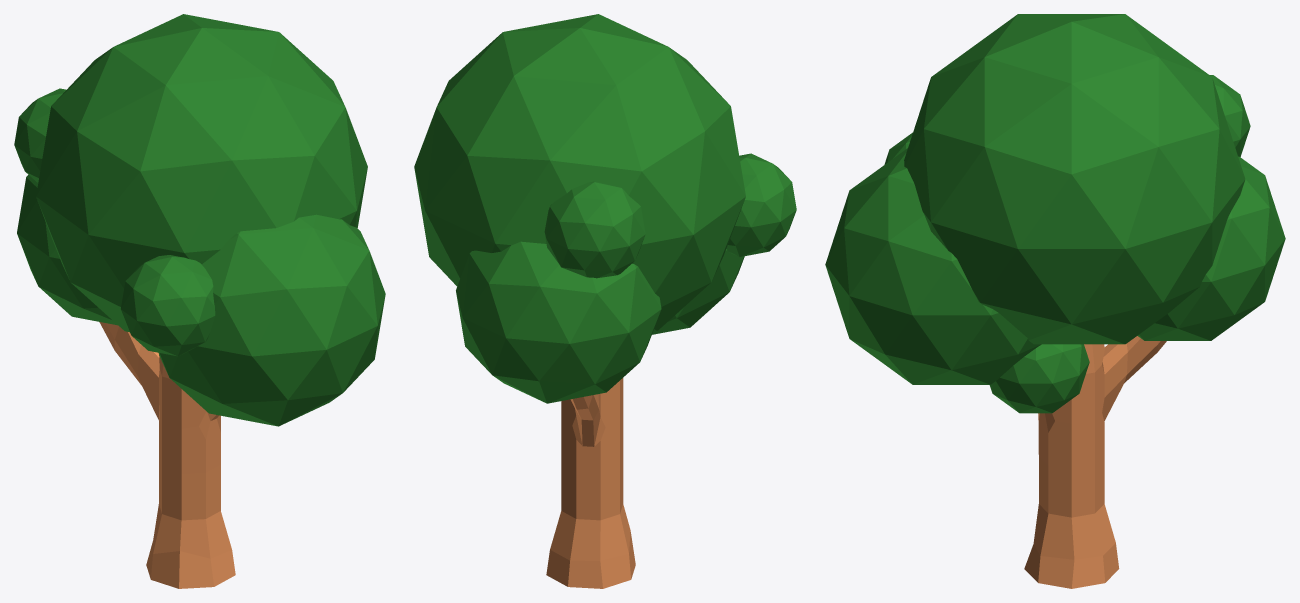
File: TREES_2.fbx
3 views of the same model, side by side, from view 1: azimuth 30°, elevation 25°; view 2: azimuth 150°, elevation 25°; view 3: azimuth 270°, elevation 25° (orthographic). The views are drawn at different scales.
Parts seen in each view (by area): view 1: LEAF.001, TRUNK.001; view 2: LEAF.001, TRUNK.001; view 3: LEAF.001, TRUNK.001.
Part boxes in pixels (left/top/right/bottom): LEAF.001: left=14, top=14, right=385, bottom=426; TRUNK.001: left=99, top=322, right=235, bottom=588; LEAF.001: left=414, top=14, right=796, bottom=403; TRUNK.001: left=546, top=378, right=635, bottom=588; LEAF.001: left=825, top=14, right=1285, bottom=413; TRUNK.001: left=1024, top=336, right=1166, bottom=588.
Size of the model in its own units: 10.1 by 14.01 by 18.56.
